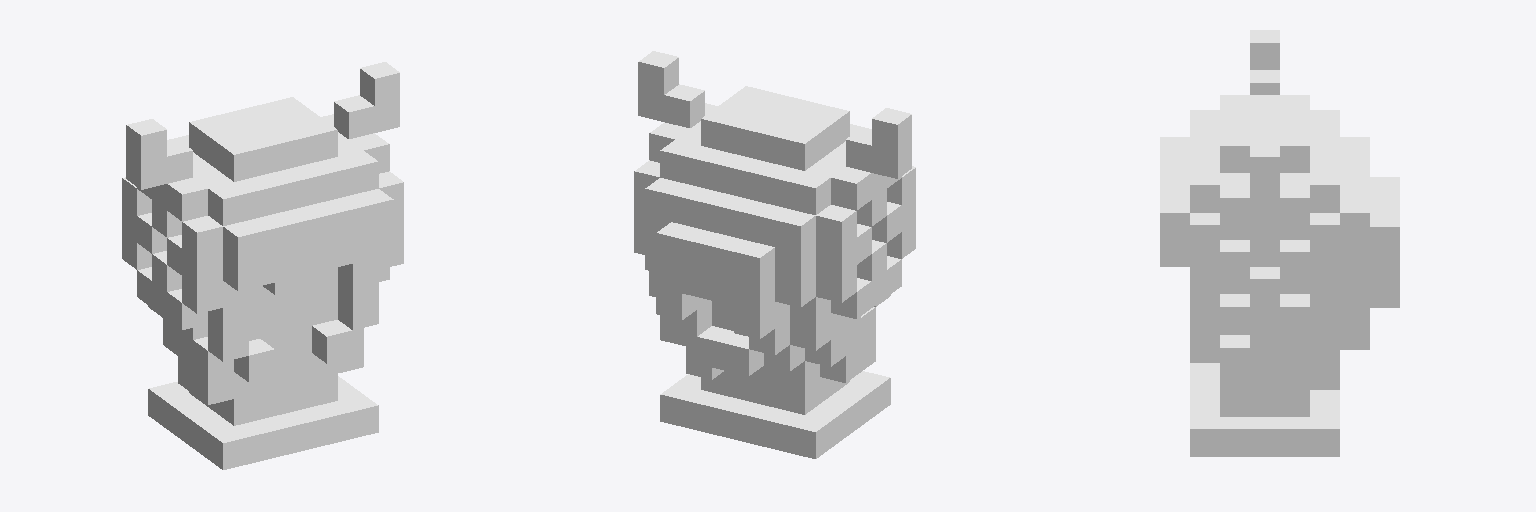
Rendered from bomberGreen.obj.
The picture shows the model from 3 angles: view 1: azimuth 30°, elevation 25°; view 2: azimuth 150°, elevation 25°; view 3: azimuth 270°, elevation 25°; orthographic projection.
Size of the model in its own units: 10 by 12 by 8.